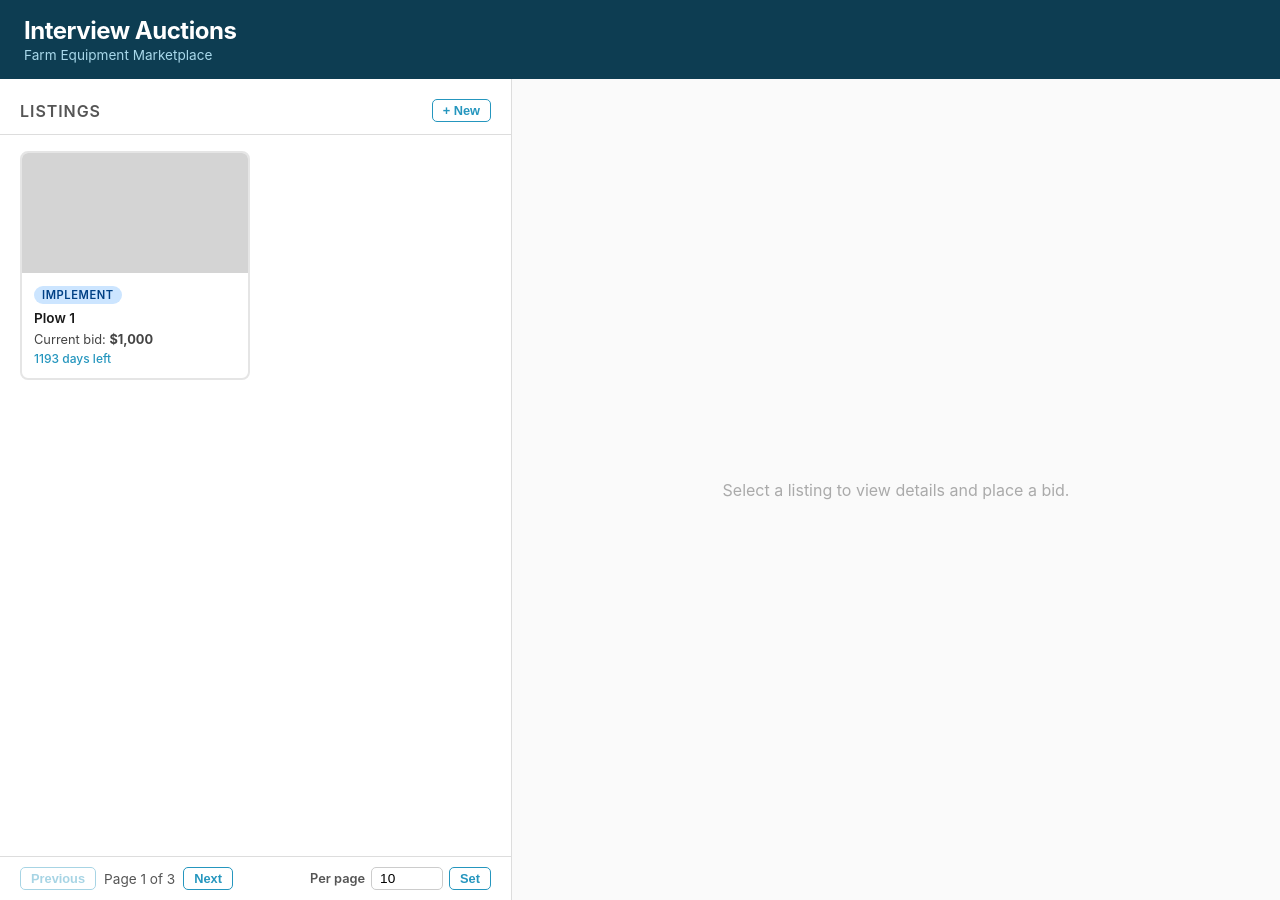
Scenario: App › loads the first page at the new size when a page size is submitted
Step 1. Click the button "Next" → (208, 878), box [183,867,233,890]
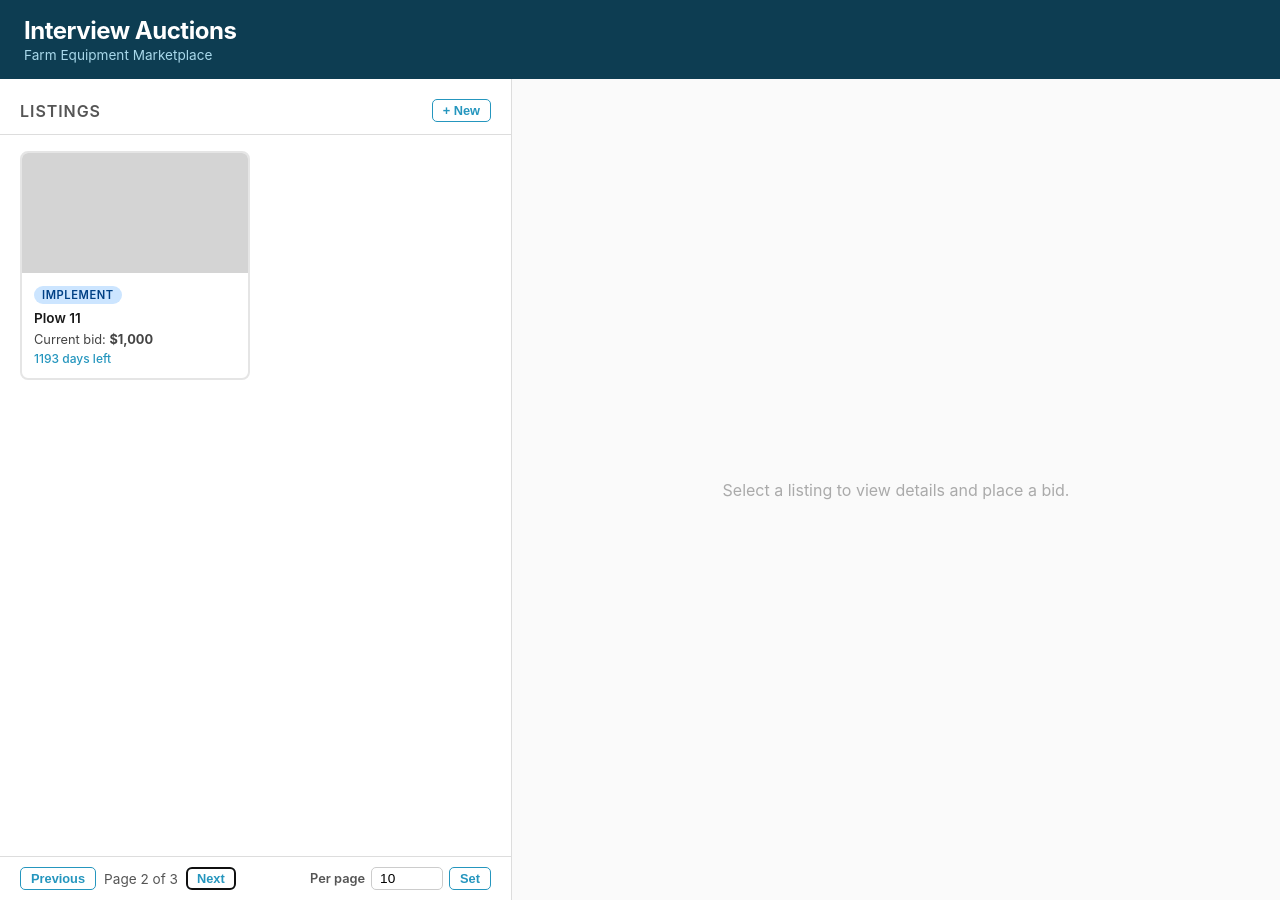
Expected: the heading "Plow 11" is shown, [34,310,81,326]
Step 2. Replace the text in the number field labelled "Per page" with "5" → (407, 878), box [371,867,443,890]
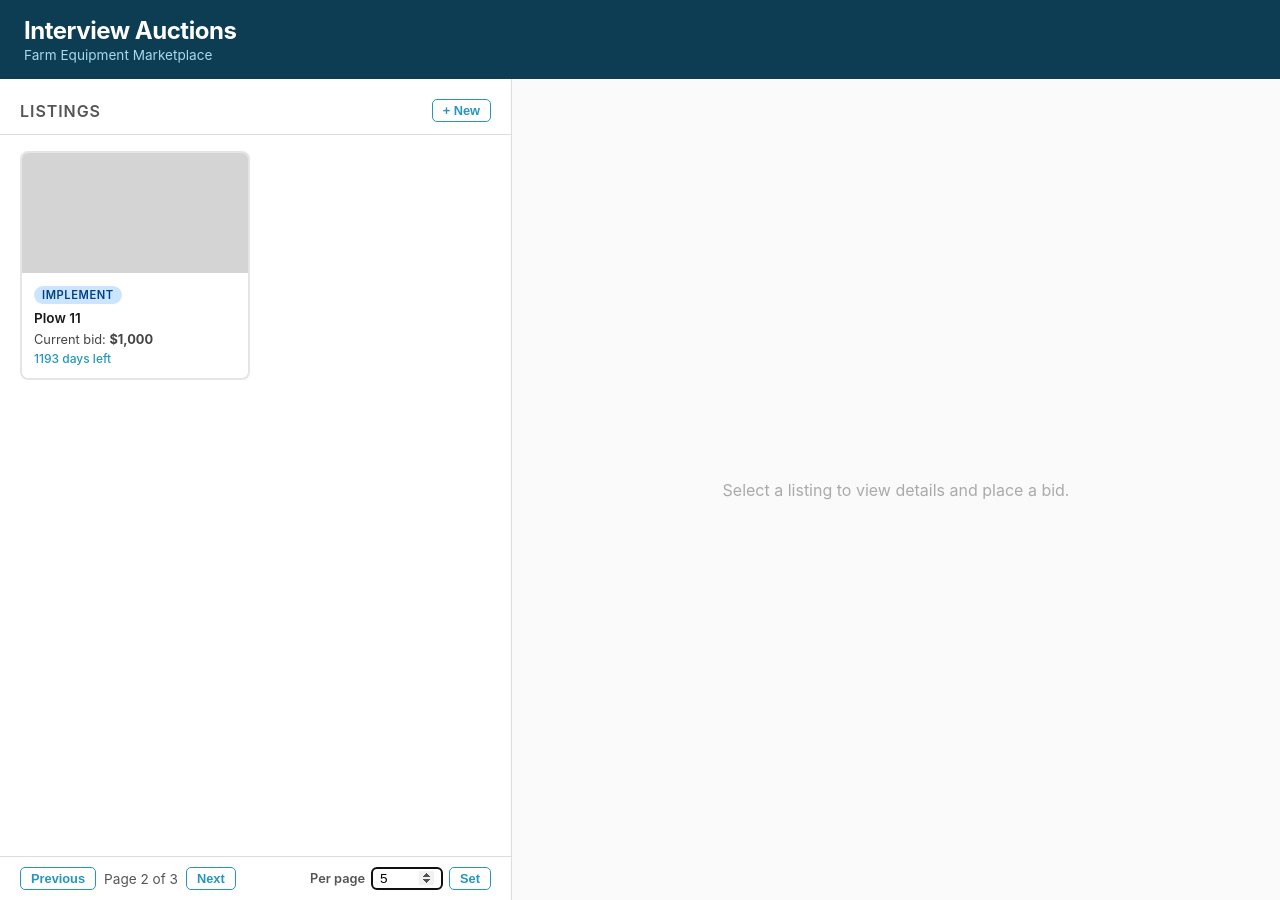
Step 3. Click the button "Set" → (470, 878), box [449,867,491,890]
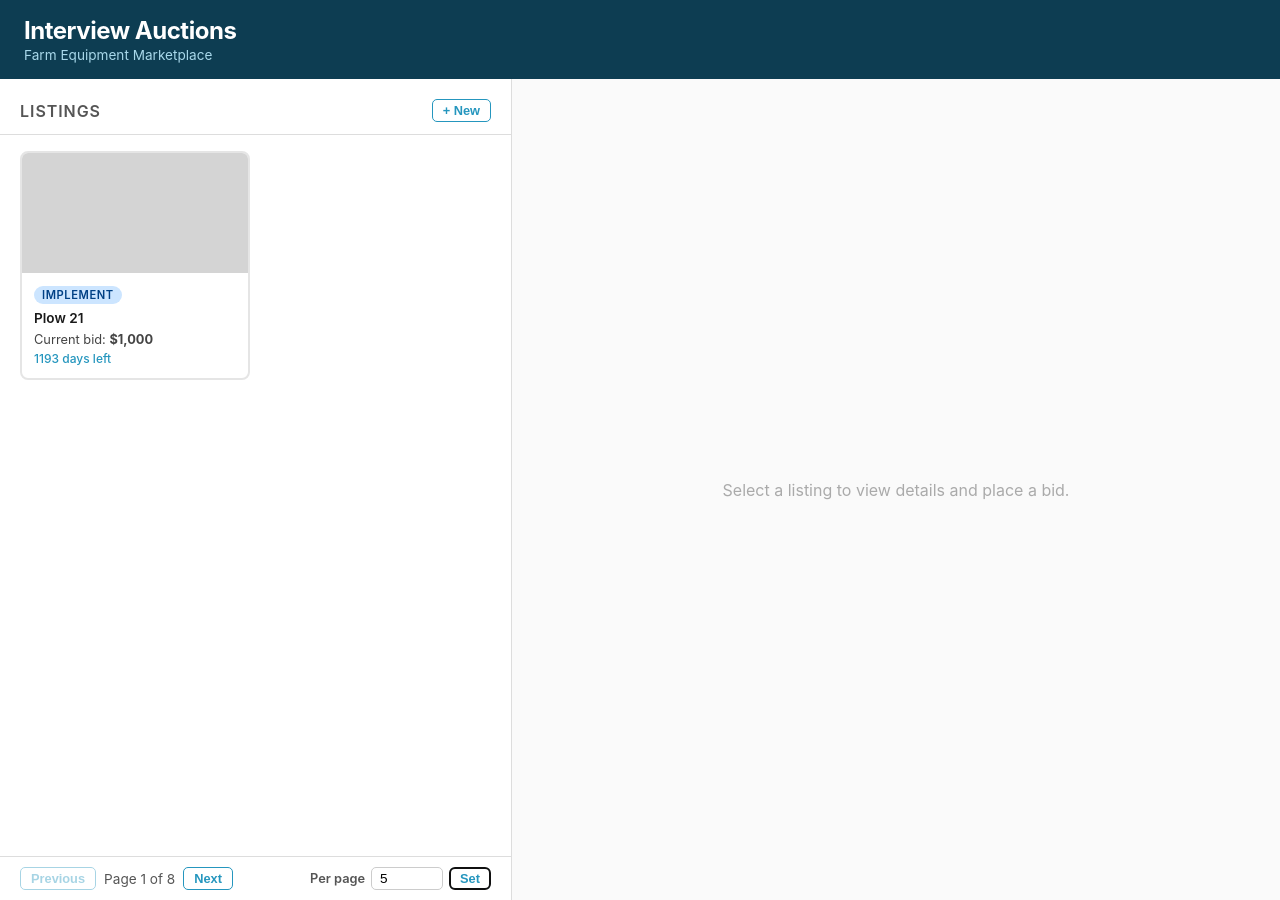
Expected: the heading "Plow 21" is shown, [34,310,84,326]
Expected: the text "Page 1 of 8" is shown, [104,870,175,886]
